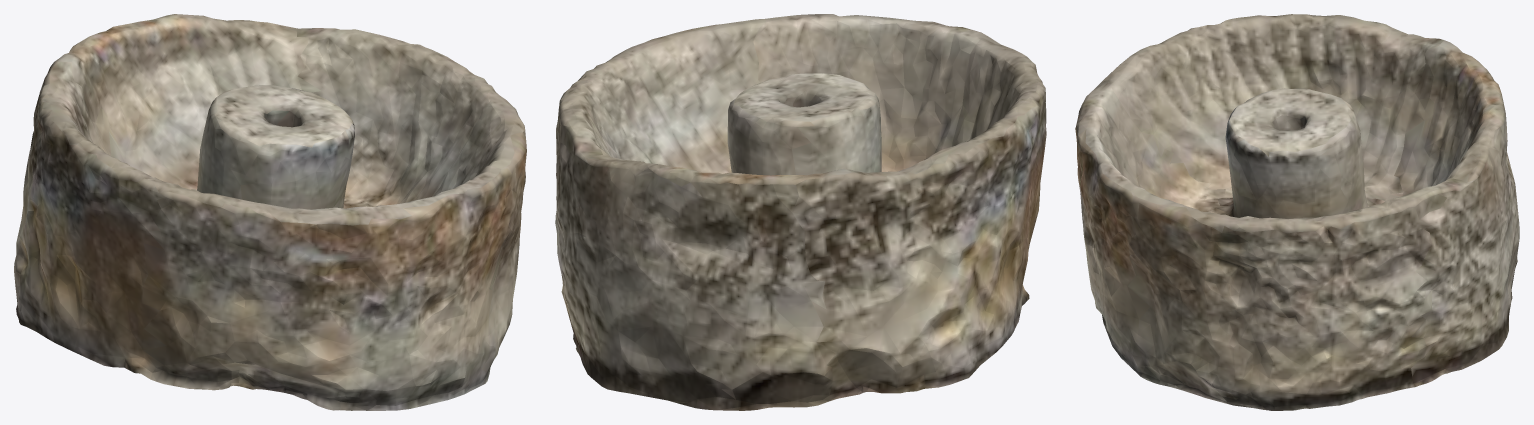
The model's file is zaghouan-stone-basin.glb.
3 views of the same model, side by side, from view 1: azimuth 30°, elevation 25°; view 2: azimuth 150°, elevation 25°; view 3: azimuth 270°, elevation 25° (orthographic). The views are drawn at different scales.
Parts seen in each view (by area): view 1: Object_2; view 2: Object_2; view 3: Object_2.
Part boxes in pixels (bbox=[...]): Object_2: bbox=[14, 14, 526, 410]; Object_2: bbox=[555, 14, 1046, 410]; Object_2: bbox=[1075, 14, 1519, 410].
Size of the model in its own units: 1.11 by 0.6447 by 1.13.
1 material, 1 textured.
